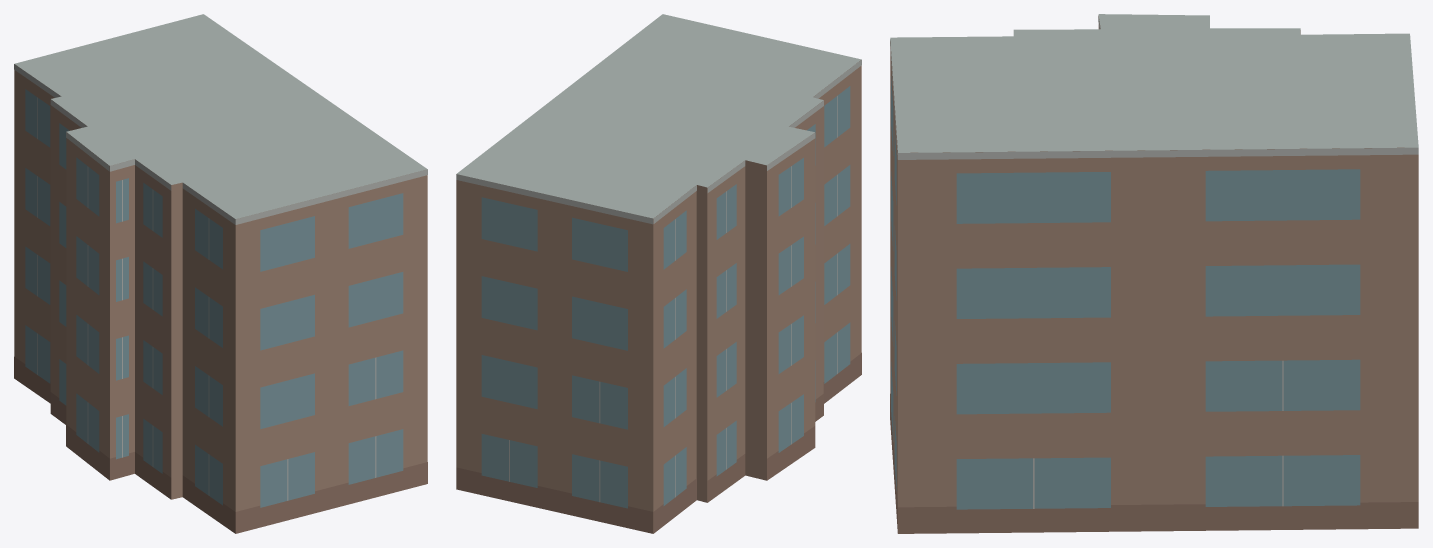
Rendered from survey-upis-32538589.glb.
The picture shows the model from 3 angles, left to right: view 1: azimuth 30°, elevation 25°; view 2: azimuth 150°, elevation 25°; view 3: azimuth 270°, elevation 25°; orthographic projection. The views are drawn at different scales.
Visible parts, largest first — view 1: survey-upis-32538589.tmp; view 2: survey-upis-32538589.tmp; view 3: survey-upis-32538589.tmp.
Part boxes in pixels (bbox=[...]): survey-upis-32538589.tmp: bbox=[14, 14, 427, 533]; survey-upis-32538589.tmp: bbox=[456, 14, 861, 533]; survey-upis-32538589.tmp: bbox=[890, 14, 1418, 533].
Bounding box in the file's own units: 10.25 × 13.1 × 16.48.
